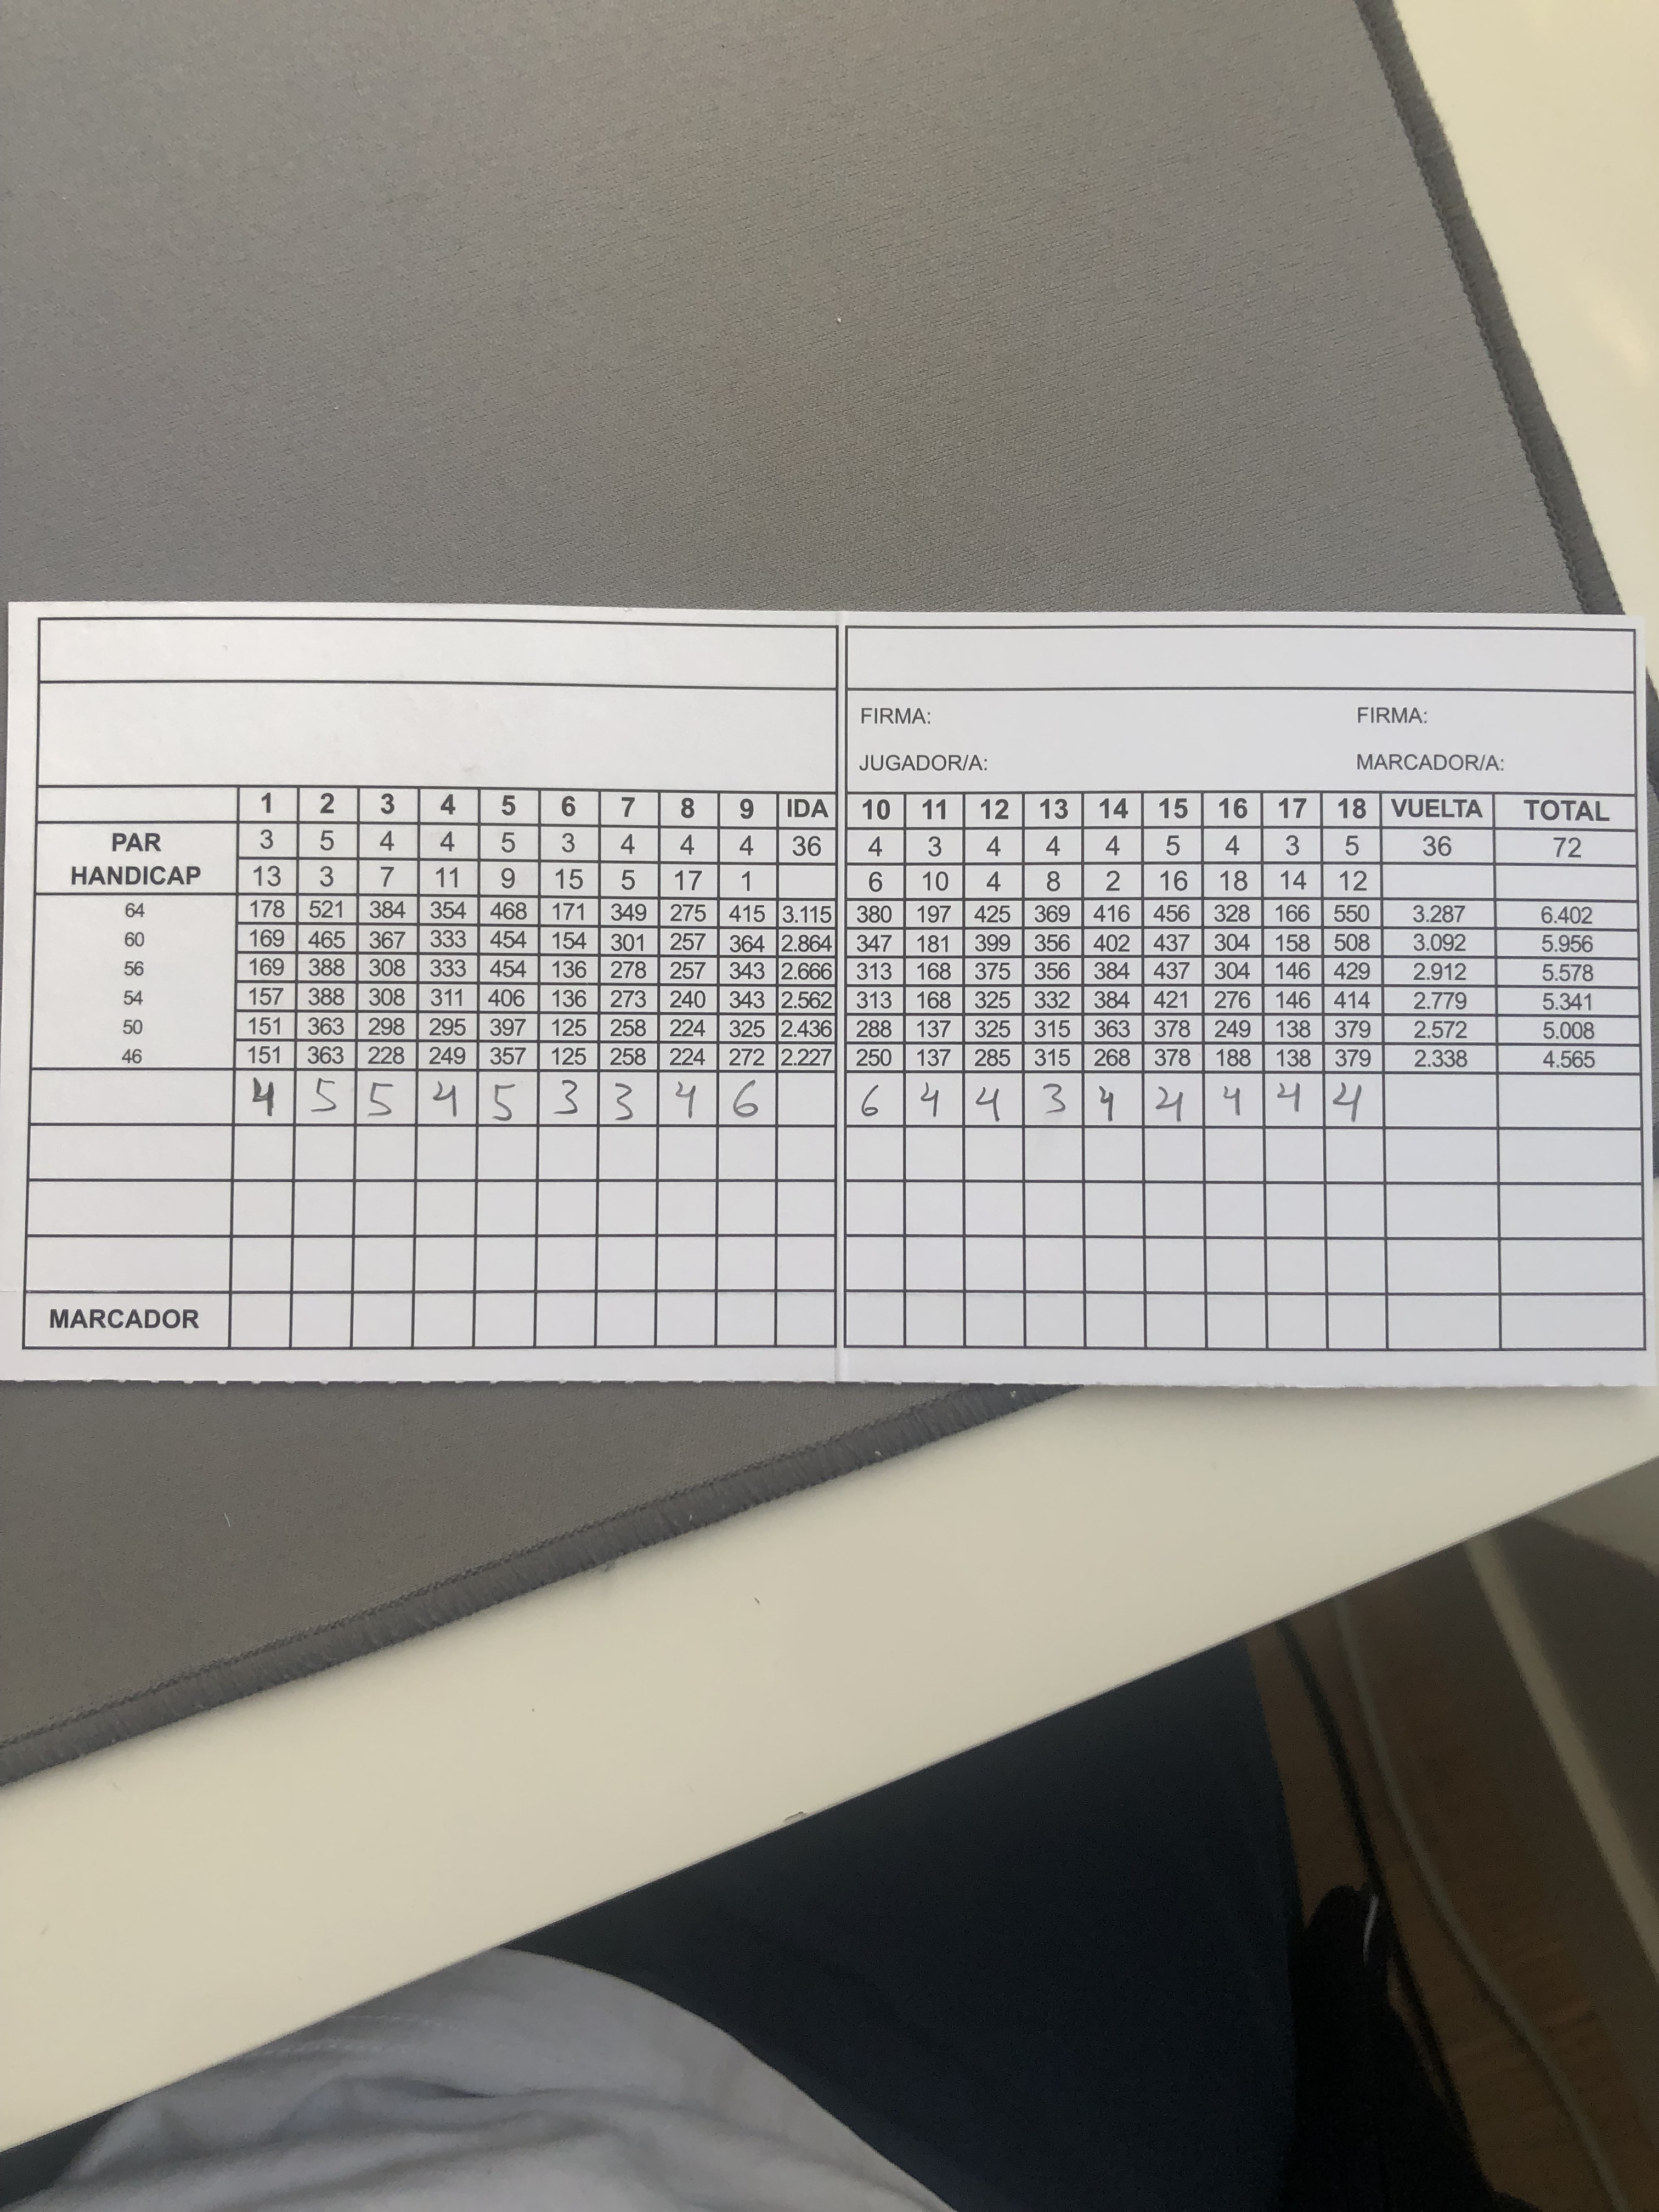par: (94, 822, 1601, 866)
score: (230, 1068, 1382, 1137)
